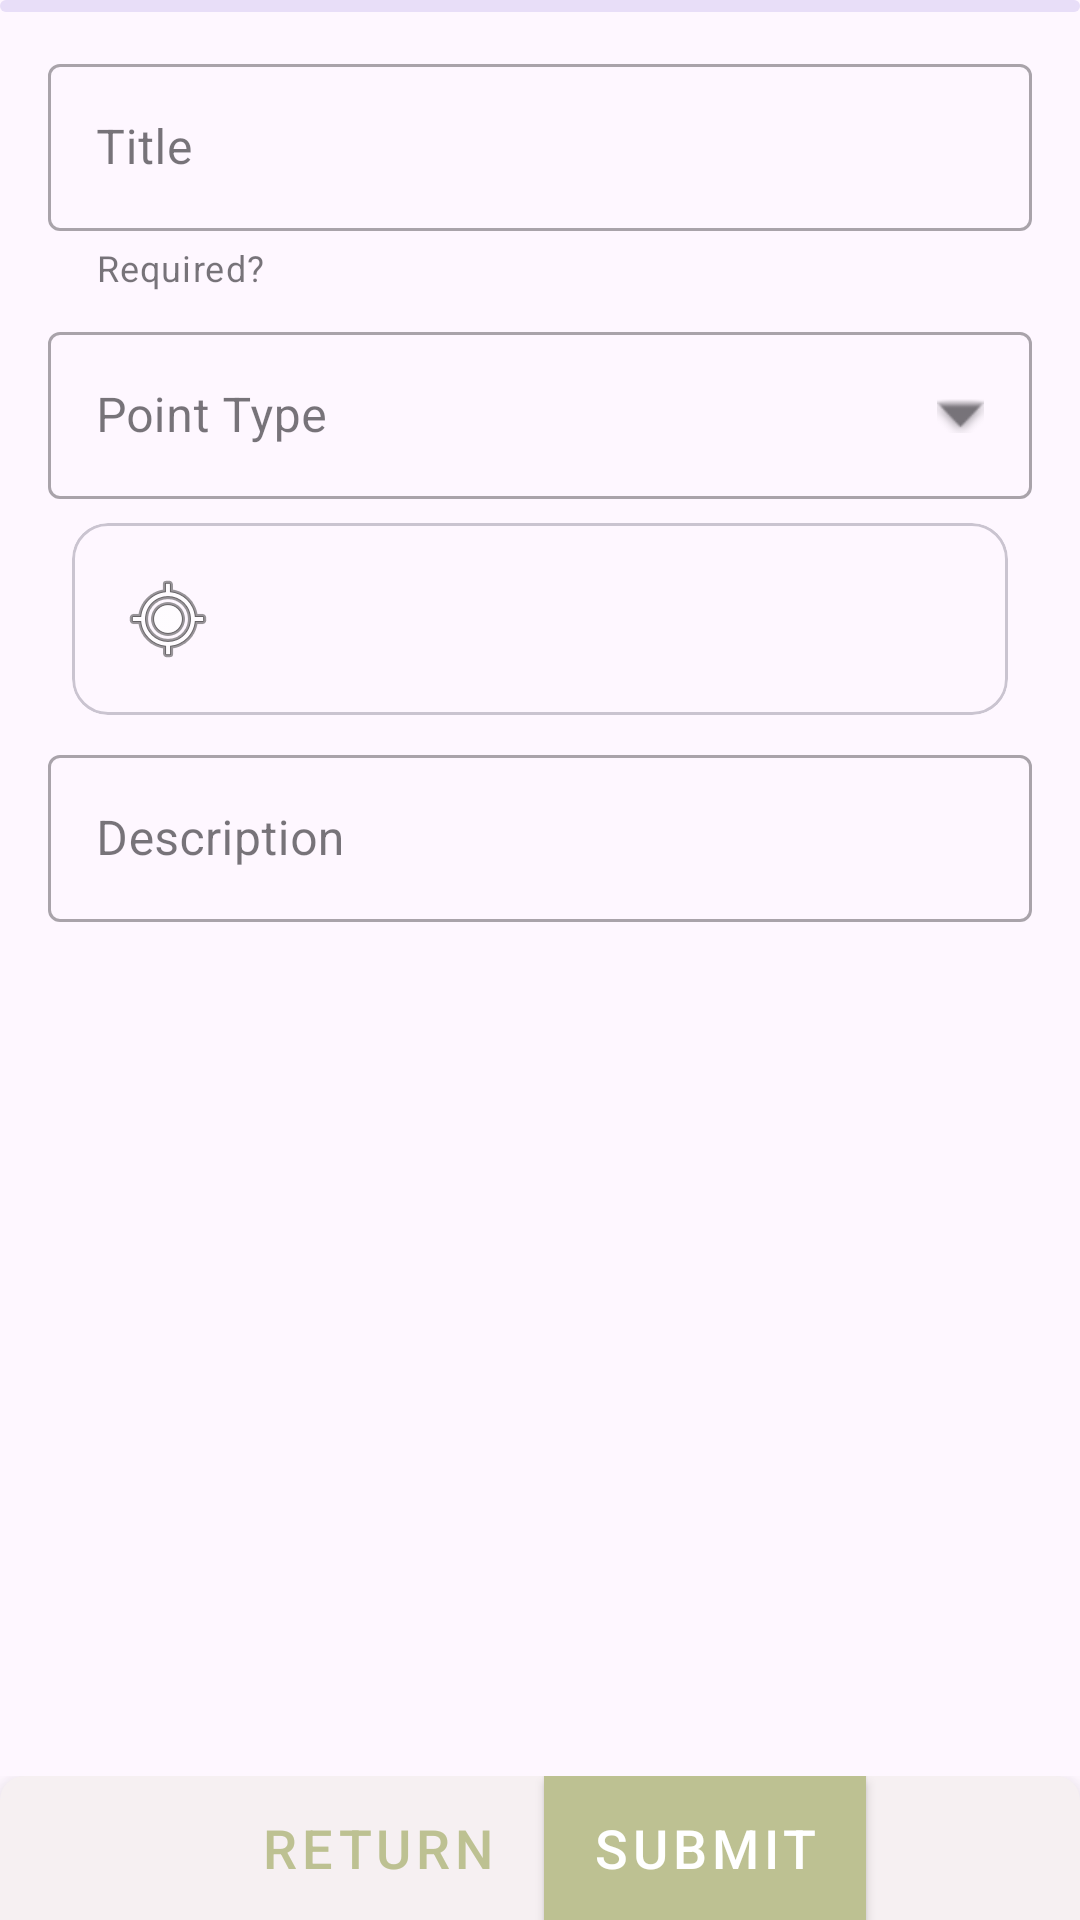

Point at icon controls on the screen. Image size 1080px x 1920px, points as [x,y].
Photo location Icon: [168,619]
